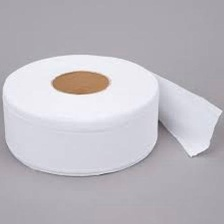tissue: (0, 47, 224, 182)
